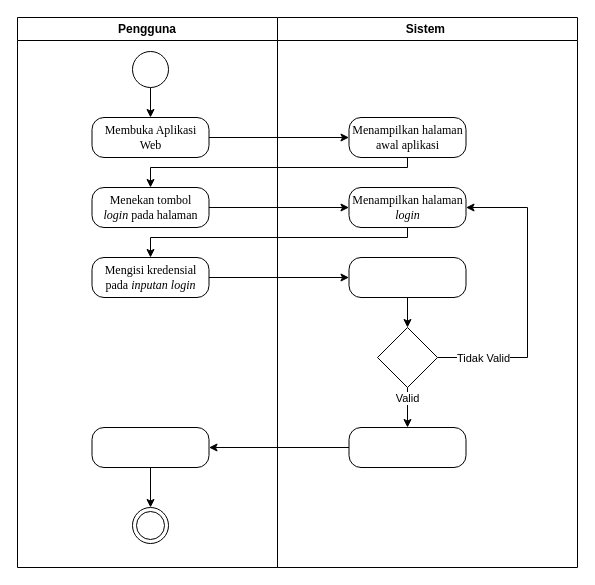
Image size: 595x585. Some labels were removed from this diagram. The centre of each missing label's shape, as x and y in pixels:
"Melihat halaman dashboard" belongs at point 150,447.
"Memverifikasi data" belongs at point 407,277.
"Menampilkan halaman dashboard" belongs at point 407,447.
